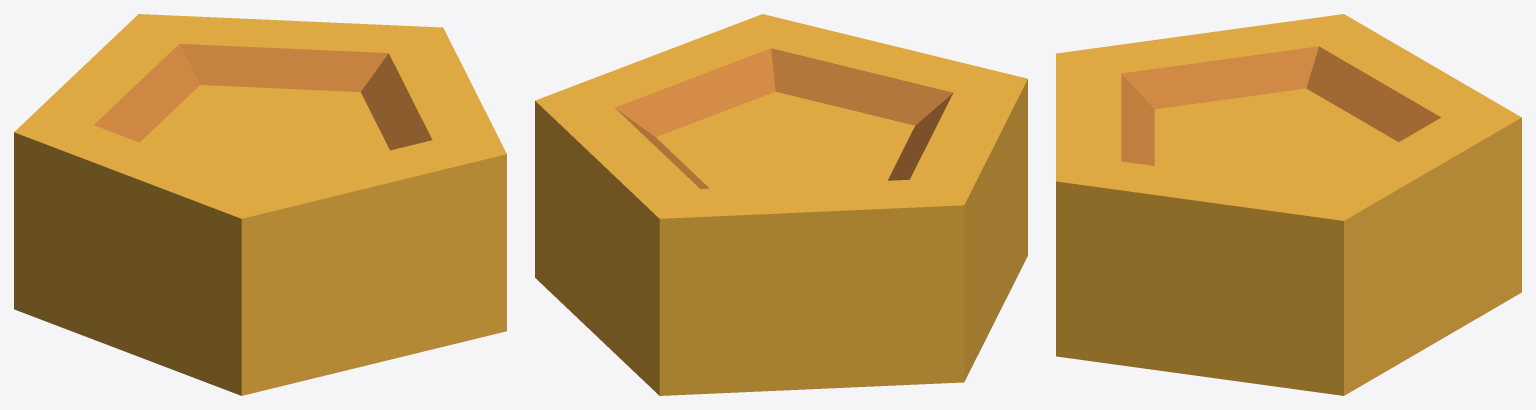
File: Mesh_GoldCoin.fbx
3 views of the same model, side by side, from view 1: azimuth 30°, elevation 25°; view 2: azimuth 150°, elevation 25°; view 3: azimuth 270°, elevation 25° (orthographic).
Visible parts, largest first — view 1: SM_GoldCoin; view 2: SM_GoldCoin; view 3: SM_GoldCoin.
Boxes of the visible parts, x1,y1,x2,y2 form: SM_GoldCoin: (14,14,506,395); SM_GoldCoin: (535,14,1027,395); SM_GoldCoin: (1056,14,1521,395).
Size of the model in its own units: 0.1902 by 0.075 by 0.1809.
